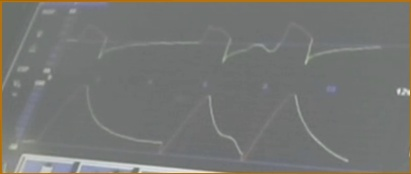Ineffective_effort Flow: (65, 16, 386, 72)
Ineffective_effort Volume: (25, 84, 352, 165)
